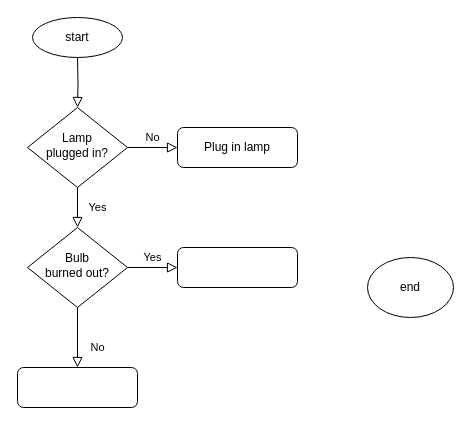
Image size: 471x425. Some labels were removed from this diagram. The shapes that lost their labels are listed below. From the top down, each one's centre as x and y in pixels, then its label:
At (237,267): "Replace Bulb".
At (77,387): "Repair Lamp".
